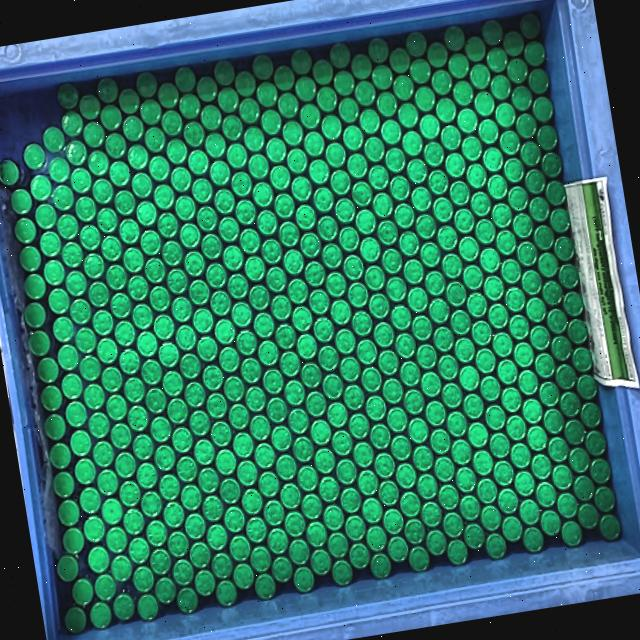vial: (70, 578, 96, 608), (12, 217, 38, 245), (252, 312, 276, 341), (26, 328, 49, 358), (145, 520, 168, 550), (546, 180, 570, 208), (504, 414, 528, 442), (599, 514, 623, 542), (208, 420, 232, 448), (148, 548, 172, 576), (42, 414, 67, 440), (55, 500, 80, 526), (23, 274, 47, 301), (156, 212, 180, 239), (404, 30, 428, 57), (144, 387, 168, 414), (70, 429, 94, 456), (122, 376, 146, 403), (256, 79, 279, 107), (243, 124, 266, 152), (418, 114, 441, 142), (563, 418, 586, 446), (572, 474, 595, 502), (153, 445, 176, 473), (296, 464, 319, 492), (378, 480, 401, 508), (233, 562, 256, 590), (36, 357, 59, 385), (49, 442, 72, 470), (82, 516, 105, 544), (105, 526, 128, 554), (260, 108, 282, 137), (577, 373, 599, 402), (178, 224, 202, 250), (64, 402, 88, 428), (39, 386, 63, 412), (86, 546, 110, 572), (64, 608, 88, 634), (122, 116, 145, 143), (191, 177, 214, 204), (358, 108, 381, 135), (452, 81, 475, 108), (359, 236, 382, 263), (458, 235, 481, 262), (461, 264, 484, 291), (441, 383, 464, 410), (351, 309, 374, 336), (534, 482, 557, 509), (299, 362, 322, 389), (223, 506, 246, 533), (57, 345, 80, 372), (113, 320, 136, 347), (112, 595, 135, 622), (52, 184, 74, 212), (109, 161, 131, 189), (183, 120, 205, 148), (131, 170, 153, 198), (252, 54, 274, 82), (278, 92, 300, 120), (226, 142, 248, 170), (209, 160, 231, 188), (231, 170, 253, 198), (270, 164, 292, 192), (307, 157, 329, 185), (519, 12, 541, 40), (428, 168, 450, 196), (532, 95, 554, 123), (466, 163, 488, 191), (338, 224, 360, 252), (555, 234, 577, 262), (487, 302, 509, 330), (530, 324, 552, 352), (356, 338, 378, 366), (364, 394, 386, 422), (568, 318, 590, 346), (534, 352, 556, 380), (456, 466, 478, 494), (530, 452, 552, 480), (522, 526, 544, 554), (274, 192, 296, 220), (188, 278, 210, 306), (170, 296, 192, 324), (324, 270, 346, 298), (223, 376, 245, 404), (262, 368, 284, 396), (150, 416, 172, 444), (304, 390, 326, 418), (344, 514, 366, 542), (177, 588, 199, 616), (154, 578, 176, 606), (89, 412, 111, 440), (89, 602, 111, 630), (416, 213, 437, 242), (251, 182, 274, 208), (528, 68, 551, 94), (507, 186, 530, 212), (184, 252, 207, 278), (299, 233, 322, 259), (230, 302, 253, 328), (136, 332, 159, 358), (183, 382, 206, 408), (175, 456, 198, 482), (369, 553, 392, 579), (331, 560, 354, 586), (140, 492, 163, 518), (69, 298, 92, 324), (87, 280, 110, 306), (101, 367, 124, 393), (56, 556, 79, 582), (100, 500, 123, 526), (118, 482, 141, 508), (42, 126, 64, 153), (140, 99, 162, 126), (166, 138, 188, 165), (148, 155, 170, 182), (187, 150, 209, 177), (295, 76, 317, 103), (304, 131, 326, 158), (368, 163, 390, 190), (334, 196, 356, 223), (410, 185, 432, 212), (377, 220, 399, 247), (342, 253, 364, 280), (347, 283, 369, 310), (490, 202, 512, 229), (441, 252, 463, 279), (504, 286, 526, 313), (470, 321, 492, 348), (404, 388, 426, 415), (425, 399, 447, 426), (472, 450, 494, 477), (594, 486, 616, 513), (222, 245, 244, 272), (270, 426, 292, 453), (266, 528, 288, 555), (123, 510, 145, 537), (30, 175, 51, 203), (313, 186, 334, 214), (437, 225, 458, 253), (479, 246, 500, 274), (459, 366, 480, 394), (206, 262, 227, 290), (336, 458, 357, 486), (56, 84, 80, 108), (554, 365, 578, 389), (329, 43, 352, 68), (380, 379, 403, 404), (428, 429, 451, 454), (343, 385, 366, 410), (78, 488, 101, 513), (97, 78, 119, 104), (66, 140, 88, 166), (158, 84, 180, 110), (88, 150, 110, 176), (40, 232, 62, 258), (218, 87, 240, 113), (200, 105, 222, 131), (240, 98, 262, 124), (153, 184, 175, 210), (273, 65, 295, 91), (300, 104, 322, 130), (264, 138, 286, 164), (372, 65, 394, 91), (286, 148, 308, 174), (234, 199, 256, 225), (380, 119, 402, 145), (480, 20, 502, 46), (424, 142, 446, 168), (512, 86, 534, 112), (494, 102, 516, 128), (461, 136, 483, 162), (536, 124, 558, 150), (520, 141, 542, 167), (470, 191, 492, 217), (516, 241, 538, 267), (454, 337, 476, 363), (564, 292, 586, 318), (373, 322, 395, 348), (484, 404, 506, 430), (467, 422, 489, 448), (572, 347, 594, 373), (416, 474, 438, 500), (438, 484, 460, 510), (586, 430, 608, 456), (484, 534, 506, 560), (420, 502, 442, 528), (395, 462, 417, 488), (196, 206, 218, 232), (144, 258, 166, 284), (148, 286, 170, 312), (278, 222, 300, 248), (244, 254, 266, 280), (210, 290, 232, 316), (192, 308, 214, 334), (250, 284, 272, 310), (196, 336, 218, 362), (140, 360, 162, 386), (304, 262, 326, 288), (270, 294, 292, 320), (275, 324, 297, 350), (206, 393, 228, 419), (227, 404, 249, 430), (188, 410, 210, 436), (232, 432, 254, 458), (266, 398, 288, 424), (317, 346, 339, 372), (334, 329, 356, 355), (288, 408, 310, 434), (198, 468, 220, 494), (310, 418, 332, 444), (292, 436, 314, 462), (241, 489, 263, 515), (314, 447, 336, 473), (374, 453, 396, 479), (288, 539, 310, 565), (326, 532, 348, 558), (254, 574, 276, 600), (216, 581, 238, 607), (190, 542, 212, 568), (173, 560, 195, 586), (136, 462, 158, 488), (43, 260, 65, 286), (83, 253, 105, 279), (48, 288, 70, 314), (52, 317, 74, 343), (105, 266, 127, 292), (96, 338, 118, 364), (78, 355, 100, 381), (83, 384, 105, 410), (127, 404, 149, 430), (92, 442, 114, 468), (74, 458, 96, 484), (52, 472, 74, 498), (132, 566, 154, 592), (136, 594, 158, 620), (59, 213, 80, 240), (223, 115, 244, 142), (176, 195, 197, 222), (365, 266, 386, 293), (511, 443, 532, 470), (547, 436, 568, 463), (167, 398, 188, 425), (294, 567, 315, 594), (61, 241, 82, 268), (84, 122, 104, 150), (120, 218, 140, 246), (213, 62, 236, 86), (339, 358, 362, 382), (9, 190, 31, 215), (100, 105, 122, 130), (48, 157, 70, 182), (179, 94, 201, 119), (92, 180, 114, 205), (320, 115, 342, 140), (486, 48, 508, 73), (474, 219, 496, 244), (432, 327, 454, 352), (411, 315, 433, 340), (508, 314, 530, 339), (394, 334, 416, 359), (360, 368, 382, 393), (514, 472, 536, 497), (580, 404, 602, 429), (568, 448, 590, 473), (540, 511, 562, 536), (556, 493, 578, 518), (408, 547, 430, 572), (256, 210, 278, 235), (122, 249, 144, 274), (126, 275, 148, 300), (162, 371, 184, 396), (218, 347, 240, 372), (240, 358, 262, 383), (330, 300, 352, 325), (283, 512, 305, 537), (202, 497, 224, 522), (194, 571, 216, 596), (168, 533, 190, 558), (66, 271, 88, 296), (75, 328, 97, 353), (110, 423, 132, 448), (97, 469, 119, 494), (110, 556, 132, 581), (23, 144, 44, 170), (145, 127, 166, 153), (206, 133, 227, 159), (140, 230, 161, 256), (313, 60, 334, 86), (351, 54, 372, 80), (334, 70, 355, 96), (411, 58, 432, 84), (394, 76, 415, 102), (377, 92, 398, 118), (326, 142, 347, 168), (398, 102, 419, 128), (470, 64, 491, 90), (491, 74, 512, 100), (407, 158, 428, 184), (356, 208, 377, 234), (483, 147, 504, 173), (487, 174, 508, 200), (407, 288, 428, 314), (451, 308, 472, 334), (416, 344, 437, 370), (559, 264, 580, 290), (475, 348, 496, 374), (438, 354, 459, 380), (391, 305, 412, 331), (400, 360, 421, 386), (462, 394, 483, 420), (371, 424, 392, 450), (552, 336, 573, 362), (501, 386, 522, 412), (518, 499, 539, 525), (502, 516, 523, 542), (400, 492, 421, 518), (132, 303, 153, 329), (153, 315, 174, 341), (262, 238, 283, 264), (318, 216, 339, 242), (236, 330, 257, 356), (258, 341, 279, 367), (172, 426, 193, 452), (193, 440, 214, 466), (215, 450, 236, 476), (307, 522, 328, 548), (365, 525, 386, 551), (250, 547, 271, 573), (61, 372, 82, 398), (172, 167, 192, 194), (283, 249, 303, 276), (362, 497, 382, 524), (102, 236, 122, 263), (62, 530, 85, 553), (22, 304, 46, 326), (444, 27, 466, 51), (508, 58, 530, 82), (528, 196, 550, 220), (446, 282, 468, 306), (525, 298, 547, 322), (378, 352, 400, 376), (446, 540, 468, 564), (404, 520, 426, 544), (214, 190, 236, 214), (214, 320, 236, 344), (202, 366, 224, 390), (308, 290, 330, 314), (322, 375, 344, 399), (220, 479, 242, 503), (300, 494, 322, 518), (340, 489, 362, 513), (228, 536, 250, 560), (211, 554, 233, 578), (158, 476, 180, 500), (79, 226, 101, 250), (110, 294, 132, 318), (128, 538, 150, 562), (61, 111, 82, 136), (35, 204, 56, 229), (105, 134, 126, 159), (71, 168, 92, 193), (127, 144, 148, 169), (136, 201, 157, 226), (317, 87, 338, 112), (364, 137, 385, 162), (550, 208, 571, 233), (534, 225, 555, 250), (480, 376, 501, 401), (387, 407, 408, 432), (539, 382, 560, 407), (493, 461, 514, 486), (434, 457, 455, 482), (412, 446, 433, 471), (477, 478, 498, 503), (158, 342, 179, 367), (280, 352, 301, 377), (275, 454, 296, 479), (322, 506, 343, 531), (382, 509, 403, 534), (206, 525, 227, 550), (181, 487, 202, 512), (105, 395, 126, 420), (115, 452, 136, 477), (198, 76, 218, 102), (98, 207, 118, 233), (355, 80, 375, 106), (344, 124, 364, 150), (449, 54, 469, 80), (415, 86, 435, 112), (403, 130, 423, 156), (386, 146, 406, 172), (352, 182, 372, 208), (390, 176, 410, 202), (516, 112, 536, 138), (433, 196, 453, 222), (542, 153, 562, 179), (492, 332, 512, 358), (422, 371, 442, 397), (514, 342, 534, 368), (523, 398, 543, 424), (560, 392, 580, 418), (498, 488, 518, 514), (482, 506, 502, 532), (578, 504, 598, 530), (426, 530, 446, 556), (202, 233, 222, 259), (296, 204, 316, 230), (176, 326, 196, 352), (266, 266, 286, 292), (288, 278, 308, 304), (292, 307, 312, 333), (297, 334, 317, 360), (250, 415, 270, 441), (284, 380, 304, 406), (238, 460, 258, 486), (259, 470, 279, 496), (246, 518, 266, 544), (354, 442, 374, 468), (358, 470, 378, 496), (388, 536, 408, 562), (312, 550, 332, 576), (272, 556, 292, 582), (329, 170, 352, 192), (137, 72, 158, 96), (291, 50, 312, 74), (283, 122, 304, 146), (338, 98, 359, 122), (525, 42, 546, 66), (394, 204, 415, 228), (499, 130, 520, 154), (369, 294, 390, 318), (501, 260, 522, 284), (483, 276, 504, 300), (428, 300, 449, 324), (391, 436, 412, 460), (451, 440, 472, 464), (562, 522, 583, 546), (219, 218, 240, 242), (327, 403, 348, 427), (318, 478, 339, 502), (163, 504, 184, 528), (94, 576, 115, 600), (76, 196, 96, 221), (368, 39, 388, 64), (292, 177, 312, 202), (476, 92, 496, 117), (478, 119, 498, 144), (450, 181, 470, 206), (504, 158, 524, 183), (382, 248, 402, 273), (526, 169, 546, 194), (425, 271, 445, 296), (538, 252, 558, 277), (522, 271, 542, 296), (548, 309, 568, 334), (447, 412, 467, 437), (518, 370, 538, 395), (544, 409, 564, 434), (528, 427, 548, 452), (490, 433, 510, 458), (552, 465, 572, 490), (444, 513, 464, 538), (180, 355, 200, 380), (322, 244, 342, 269), (314, 317, 334, 342), (246, 387, 266, 412), (254, 443, 274, 468), (349, 413, 369, 438), (264, 501, 284, 526), (350, 544, 370, 569), (120, 349, 140, 374), (0, 159, 19, 185), (442, 125, 461, 151), (374, 192, 393, 218), (120, 90, 141, 113), (497, 361, 518, 384), (80, 95, 100, 119), (176, 68, 196, 92), (162, 110, 182, 134), (115, 190, 135, 214), (236, 70, 256, 94), (248, 154, 268, 178), (390, 49, 410, 73), (466, 36, 486, 60), (432, 70, 452, 94), (348, 154, 368, 178), (504, 31, 524, 55), (436, 98, 456, 122), (458, 108, 478, 132), (446, 154, 466, 178), (420, 243, 440, 267), (386, 276, 406, 300), (400, 232, 420, 256), (513, 213, 533, 237), (496, 230, 516, 254), (468, 293, 488, 317), (542, 280, 562, 304), (591, 458, 611, 482), (460, 496, 480, 520), (464, 524, 484, 548), (162, 242, 182, 266), (168, 270, 188, 294), (240, 229, 260, 253), (228, 274, 248, 298), (333, 431, 353, 455), (280, 484, 300, 508), (186, 514, 206, 538), (134, 435, 153, 460), (454, 210, 474, 233), (410, 419, 430, 442), (405, 260, 424, 284), (19, 248, 39, 270), (428, 43, 448, 65), (94, 312, 114, 334), (508, 517, 510, 519)
